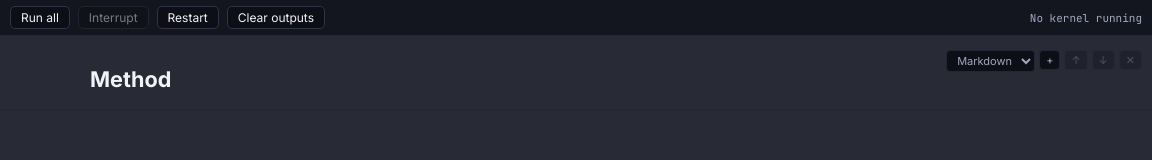
Test case: editing the document › opens a markdown cell for editing on a double click, and renders it again
Double-click the button with aria-label "Markdown cell 1": {"x": 131, "y": 79} [90, 66, 171, 92]
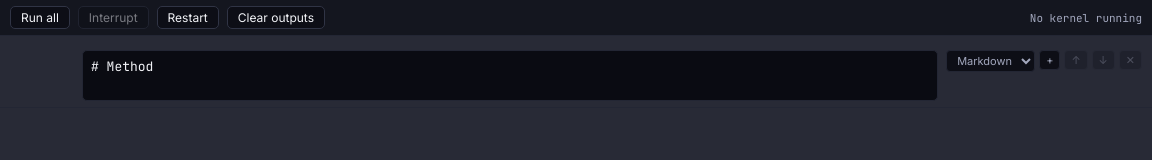
Press Enter in the text box showing "# Method", box [82, 50, 938, 101]
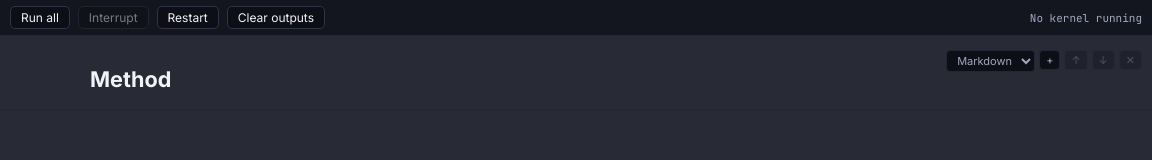
Expected: the heading "Method" is shown, [90, 66, 171, 92]
